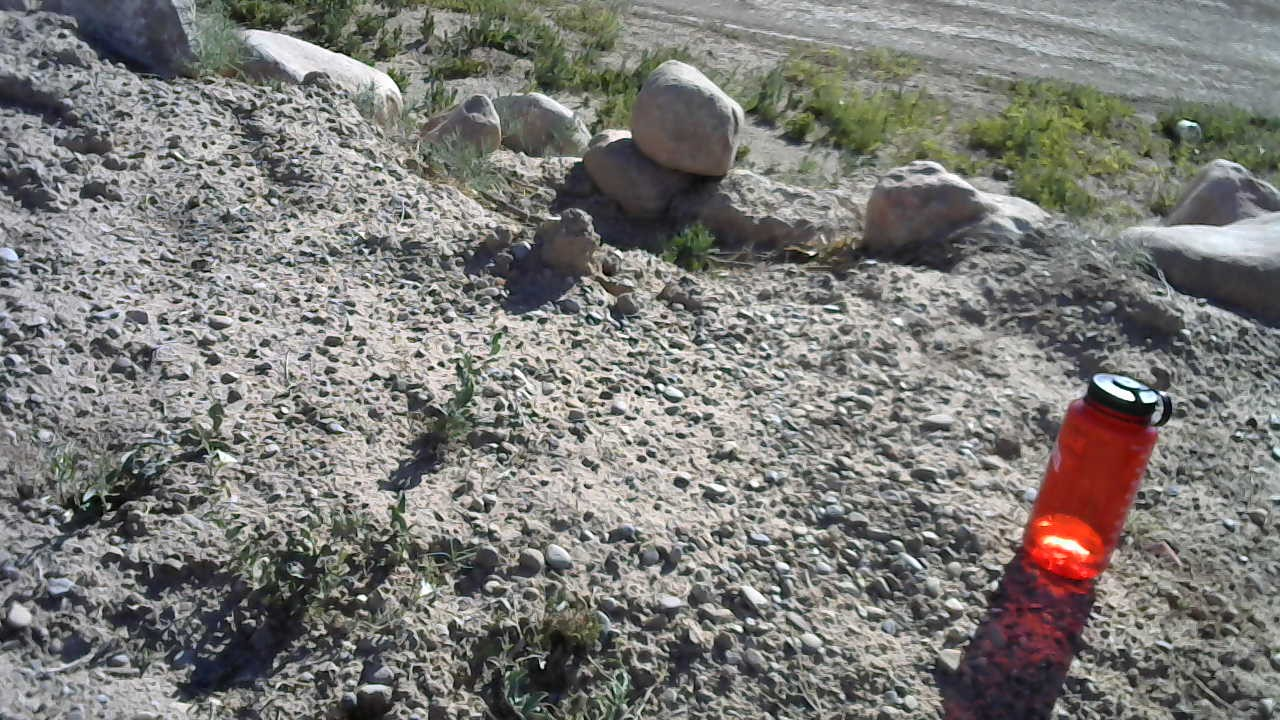bottle: (1020, 371, 1174, 580)
